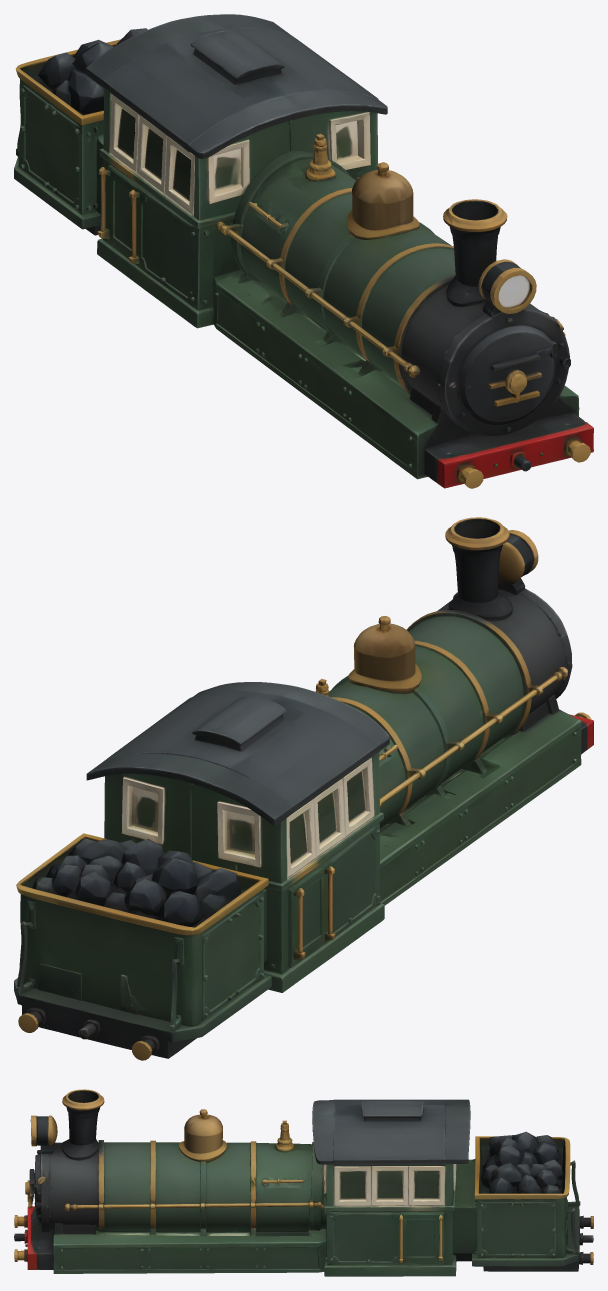
The model's file is source.glb.
3 views of the same model, one above another, from view 1: azimuth 30°, elevation 25°; view 2: azimuth 150°, elevation 25°; view 3: azimuth 270°, elevation 25° (orthographic). The views are drawn at different scales.
Parts seen in each view (by area): view 1: model; view 2: model; view 3: model.
Boxes of the visible parts, left/top/right/bottom form: model: left=14, top=14, right=593, bottom=488; model: left=14, top=517, right=593, bottom=1060; model: left=14, top=1089, right=593, bottom=1276.
Size of the model in its own units: 0.5039 by 0.5487 by 1.9.
Materials: 1 (1 with a texture image).
